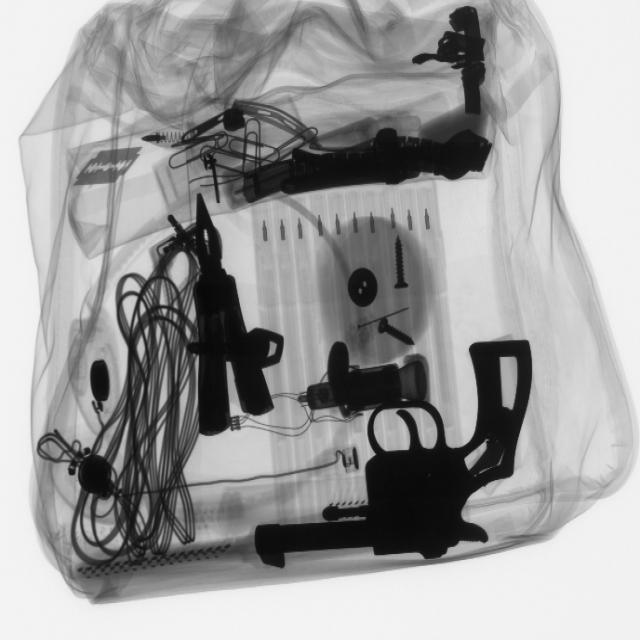BLADE: (67, 137, 143, 193)
GUN: (252, 335, 536, 568)
SCREW: (372, 229, 426, 298), (371, 304, 423, 356)
